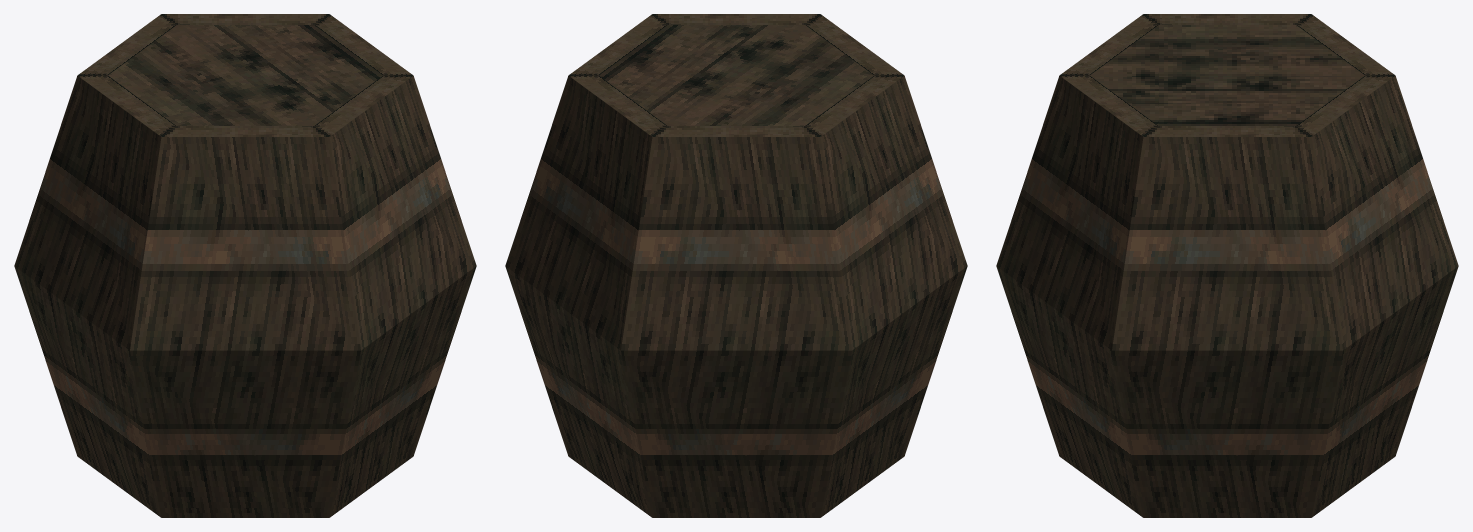
File: barrel.glb
3 renders of one model, left to right at view 1: azimuth 30°, elevation 25°; view 2: azimuth 150°, elevation 25°; view 3: azimuth 270°, elevation 25°, orthographic.
Visible parts, largest first — view 1: barrel; view 2: barrel; view 3: barrel.
Boxes of the visible parts, x1,y1,x2,y2 form: barrel: (14, 14, 476, 517); barrel: (505, 14, 967, 517); barrel: (996, 14, 1458, 517).
Bounding box in the file's own units: 1.52 × 1.6 × 1.76.
Materials: 1 (1 with a texture image).
